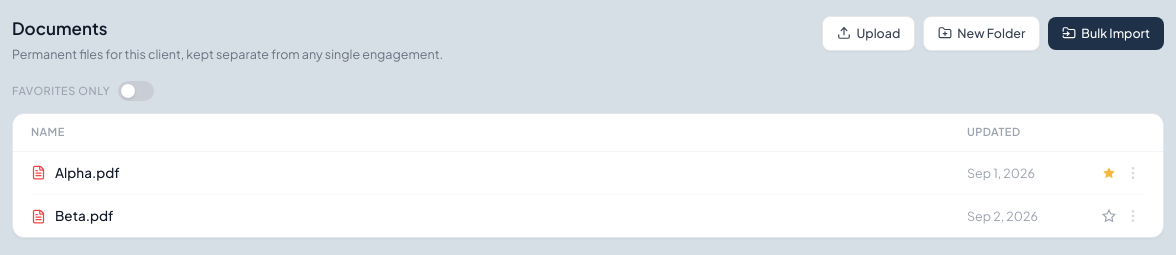
Scenario: FolderBrowser Favorites-only switch › clicking the switch again shows all documents again
Expected: the text "Alpha.pdf" is shown, [55,163,120,183]
# Toggle on.
Click the switch. click: (136, 91)
box: [118,81,154,101]
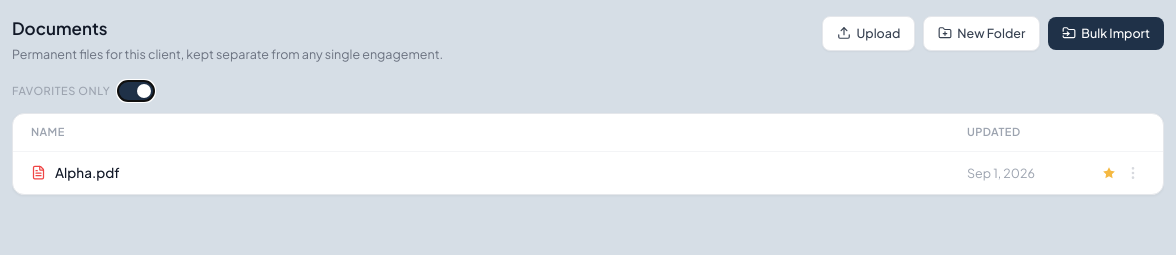
Now the text "Beta.pdf" is gone
# Toggle off.
Click the switch. click: (136, 91)
box: [118,81,154,101]
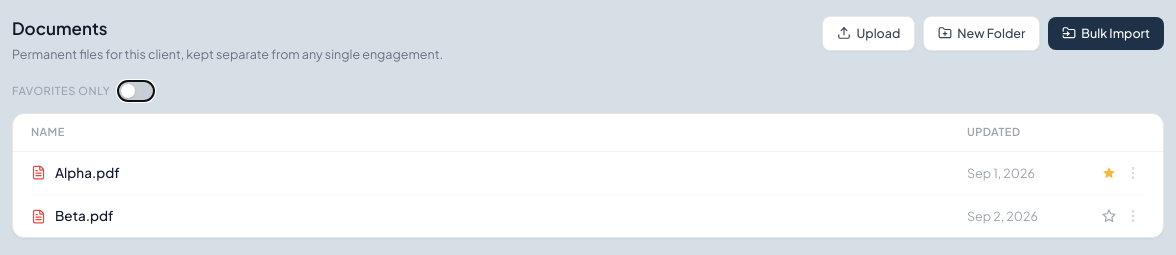
Expected: the text "Alpha.pdf" is shown, [55,163,120,183]
Now the text "Beta.pdf" is shown, box [55,206,113,226]
